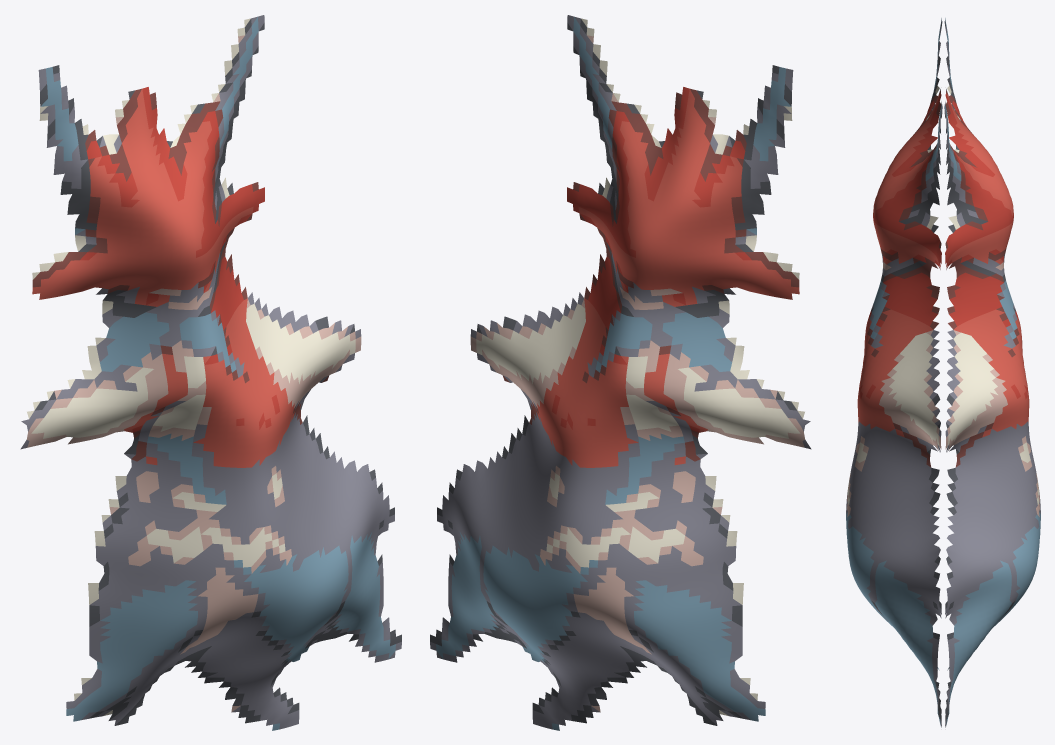
File: ottermudang.glb
The picture shows the model from 3 angles, left to right: view 1: azimuth 30°, elevation 25°; view 2: azimuth 150°, elevation 25°; view 3: azimuth 270°, elevation 25°; orthographic projection. The views are drawn at different scales.
Visible parts, largest first — view 1: ottermudang; view 2: ottermudang; view 3: ottermudang.
Boxes of the visible parts, bbox=[...] form: ottermudang: bbox=[20, 15, 401, 730]; ottermudang: bbox=[430, 15, 811, 730]; ottermudang: bbox=[846, 18, 1040, 727].
Size of the model in its own units: 563 by 1007 by 293.
